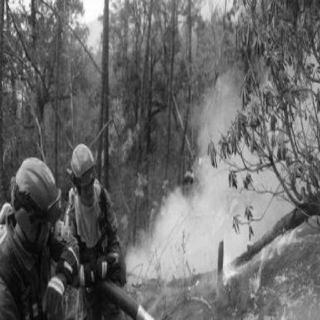Fire: (220, 224, 318, 314), (207, 197, 241, 230)
Smoke: (157, 206, 205, 274)
other: (182, 143, 212, 193), (149, 171, 181, 205)
